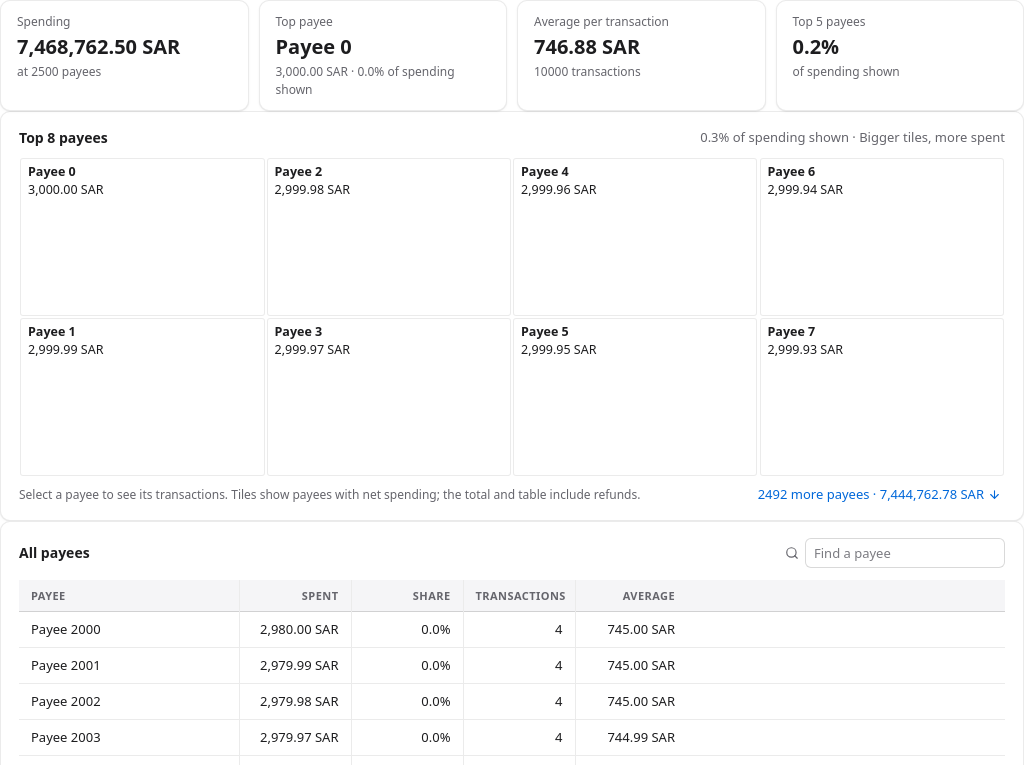
Test case: starts a new payee search at its first result after scrolling, and handles no matches
This screenshot has width=1024, height=765.
(page scrolled)
Type "Payee 2499" into the field labelled "Find a payee".
click(905, 553); type("Payee 2499")  # box [805,538,1005,568]
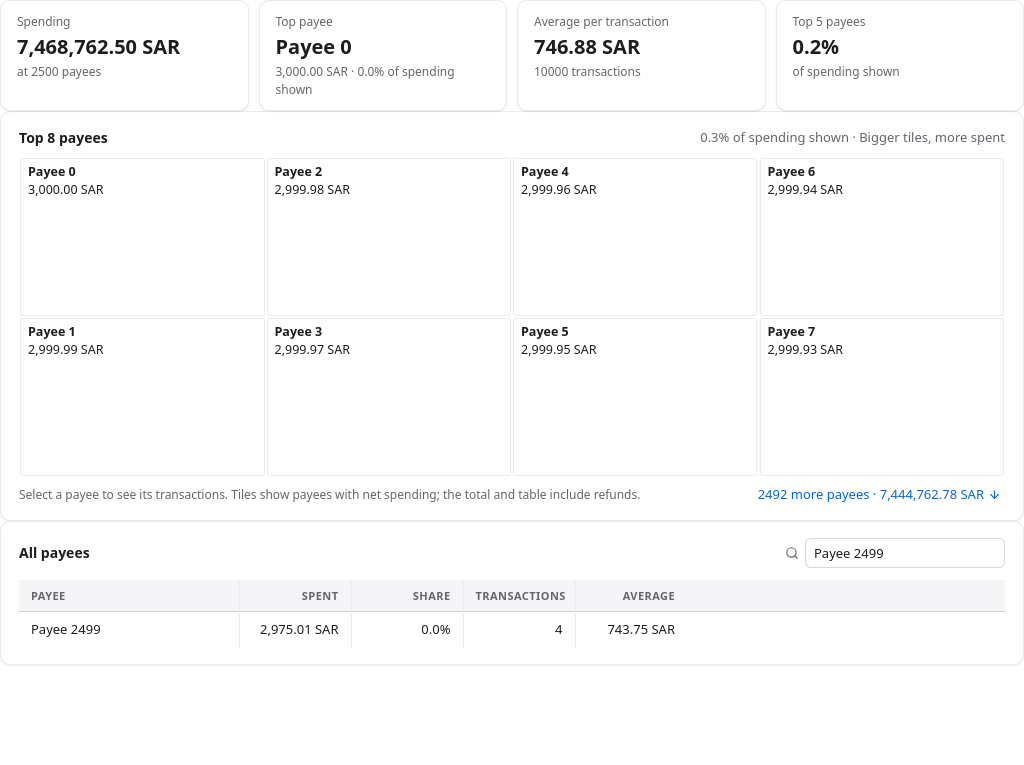
Now the button "Payee 2499" is shown, box [31,620,101,639]
Replace the text in the field named "Find a payee" with "Missing merchant" at (905, 553), box [805,538,1005,568]
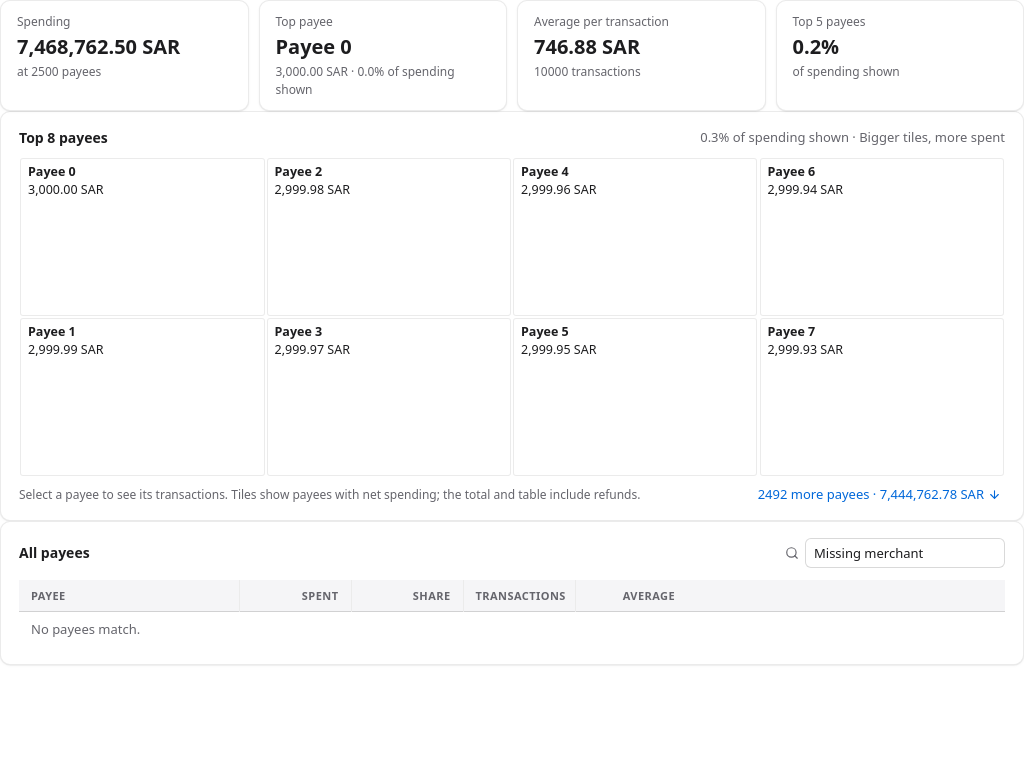
Now the text "No payees match." is shown, box [19,612,1005,648]
Clear the field named "Find a payee" at (905, 553), box [805,538,1005,568]
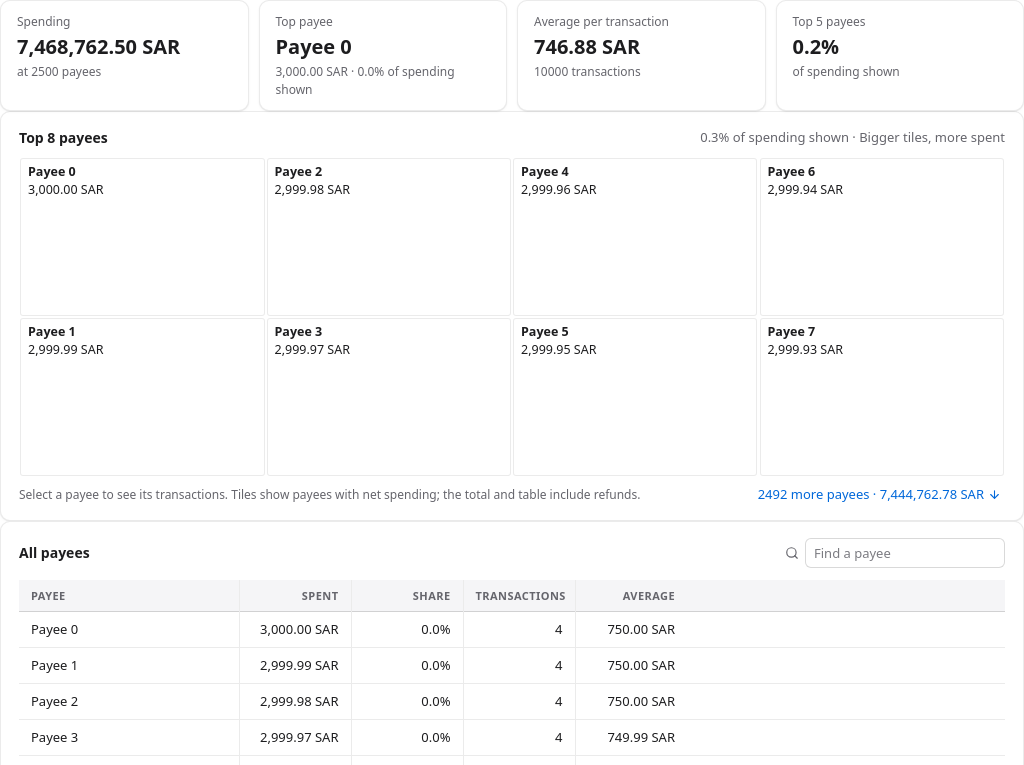
Now the button "Payee 0" is shown, box [31,620,78,639]
